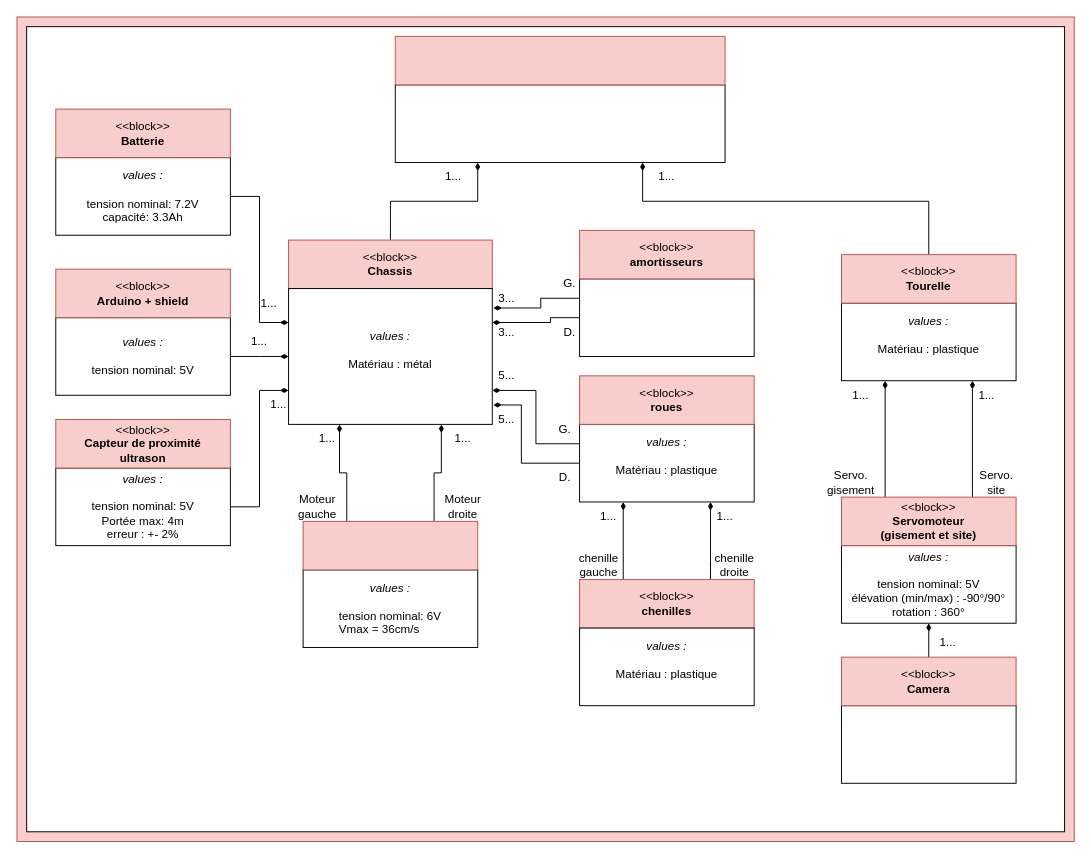
This 1091x858 diagram has some shape labels left out. The centre of each missing label's shape, as x and y in pixels:
<<block>> moteurs: (x=390, y=545)
<<block>> Robot d'exploration en milieu hostile: (x=559, y=60)
values :: (x=559, y=123)
values : Matériau : plastique + métal Poids max : 3kg: (x=666, y=317)
values : tension nominal: 5V résolution : 160*120: (x=928, y=744)
